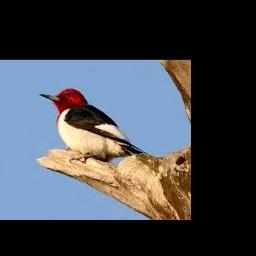Woodpecker: (40, 88, 143, 159)
